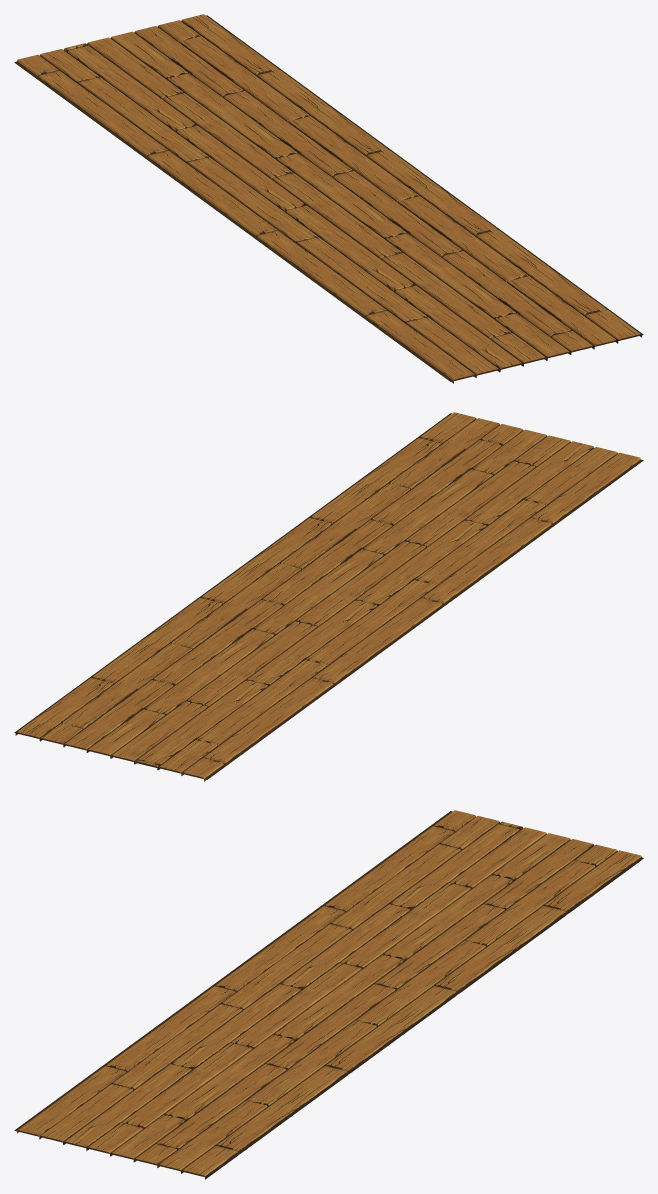
Rendered from FloorPlanks_Full.obj.
3 renders of one model, top to bottom at view 1: azimuth 30°, elevation 25°; view 2: azimuth 150°, elevation 25°; view 3: azimuth 330°, elevation 25°, orthographic.
Parts seen in each view (by area): view 1: Model_FloorPlanks_Full; view 2: Model_FloorPlanks_Full; view 3: Model_FloorPlanks_Full.
Part boxes in pixels (<box>): Model_FloorPlanks_Full: <box>14,14,643,383</box>; Model_FloorPlanks_Full: <box>14,412,643,781</box>; Model_FloorPlanks_Full: <box>14,810,643,1179</box>.
Bounding box in the file's own units: 6.02 × 0.121 × 23.6.
1 material, 1 textured.
